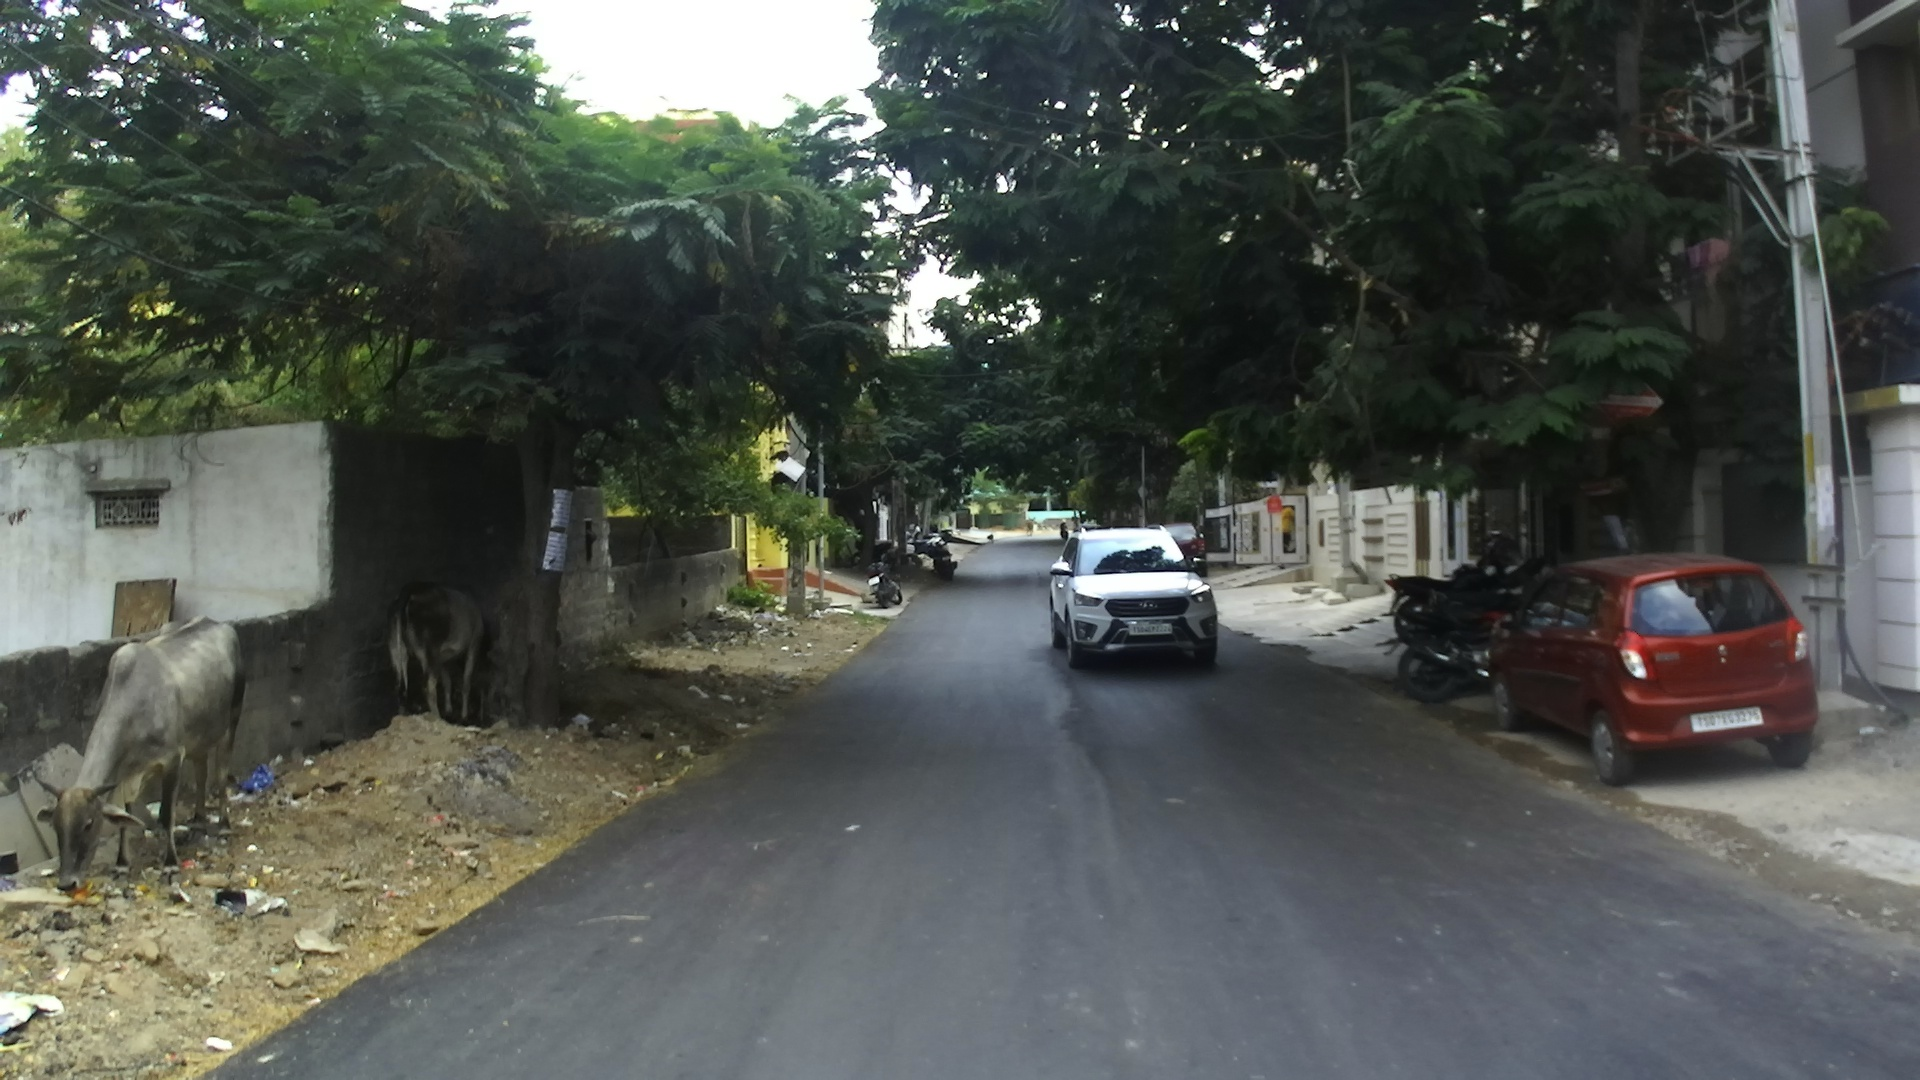vehicle: (1484, 549, 1822, 785), (1044, 529, 1218, 665), (1387, 545, 1534, 696), (909, 534, 957, 578)
